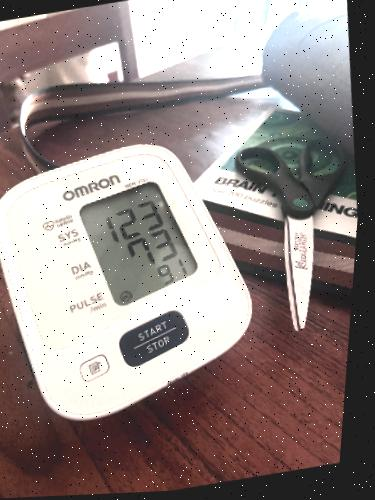bpm: (73, 171, 203, 311)
